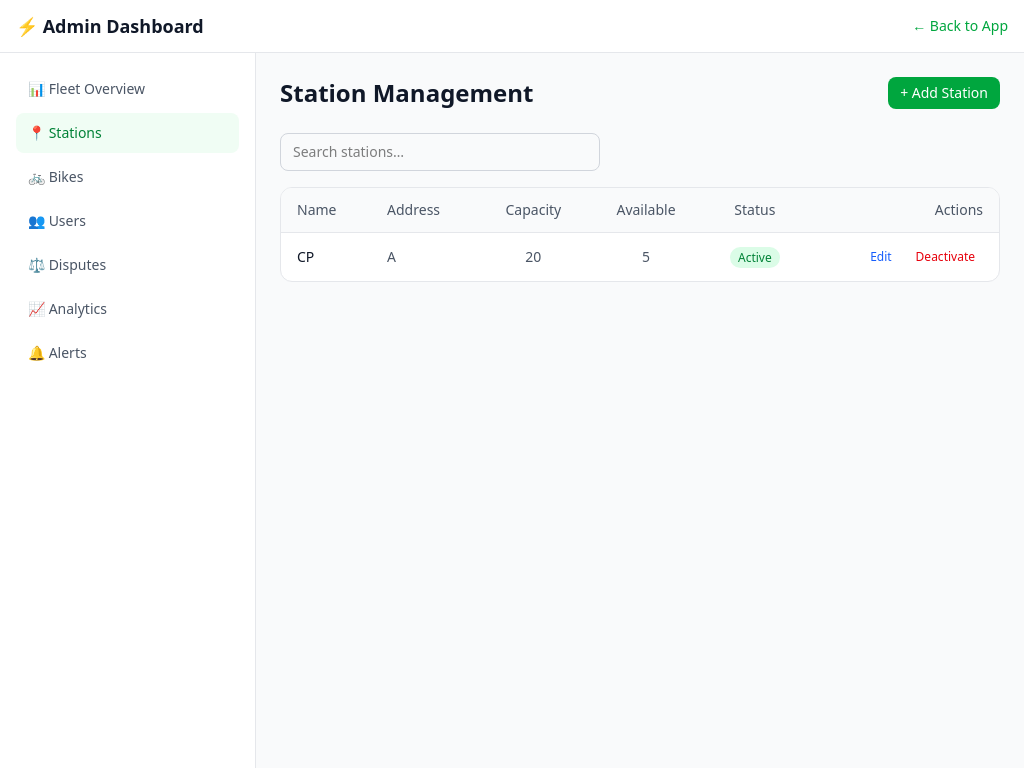
it: StationManagement › shows error when station deactivate fails
Expected: the text "CP" is shown, [281,232,371,281]
Click the button "Deactivate": {"x": 945, "y": 257} [908,245,983,269]
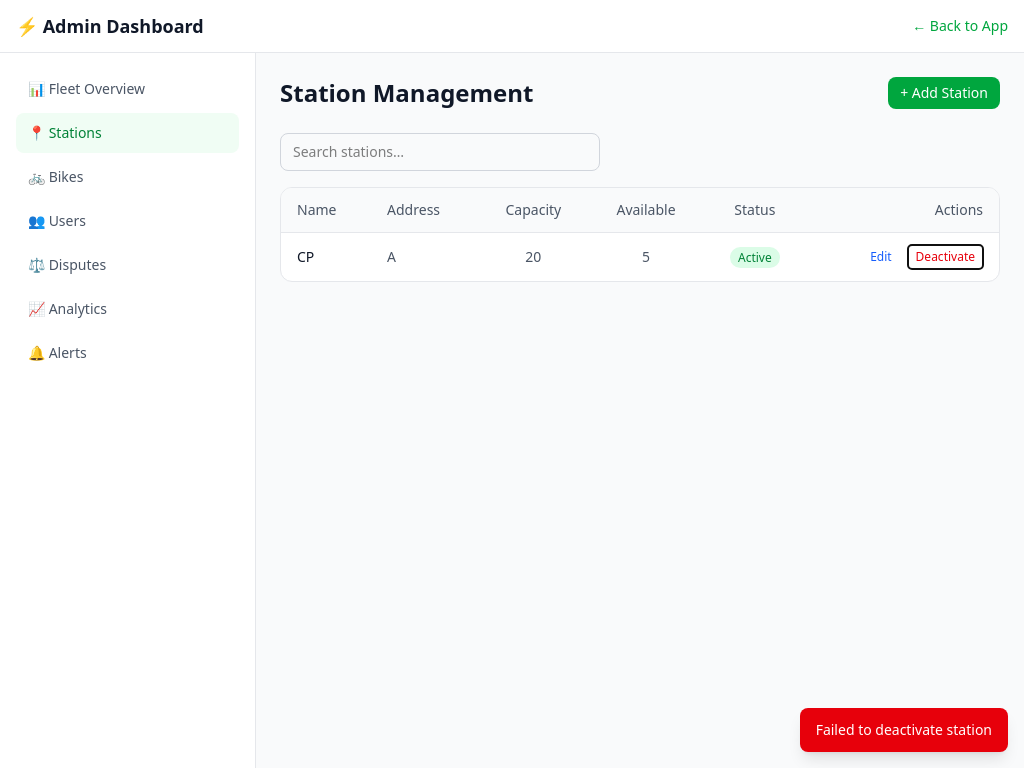
Expected: the button "Failed to deactivate station" is shown, [800,708,1008,752]
